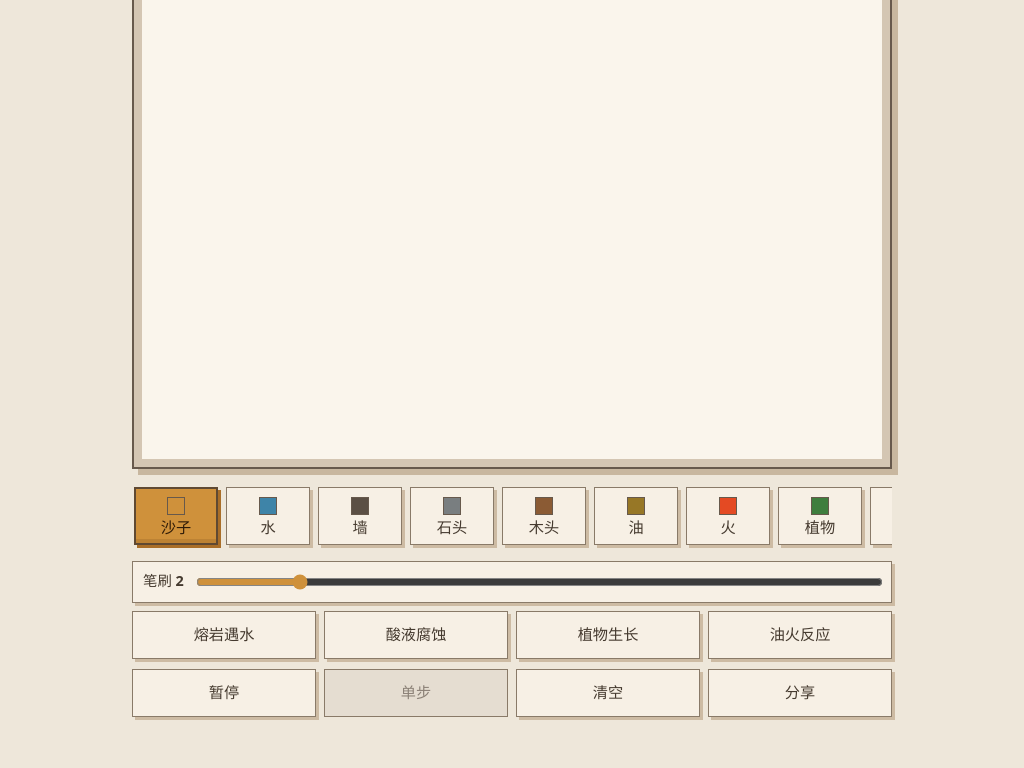
Scenario: App › loads an example scene paused
(page scrolled)
Click the button "熔岩遇水" at (224, 635), box [132,611,316,659]
(page scrolled)
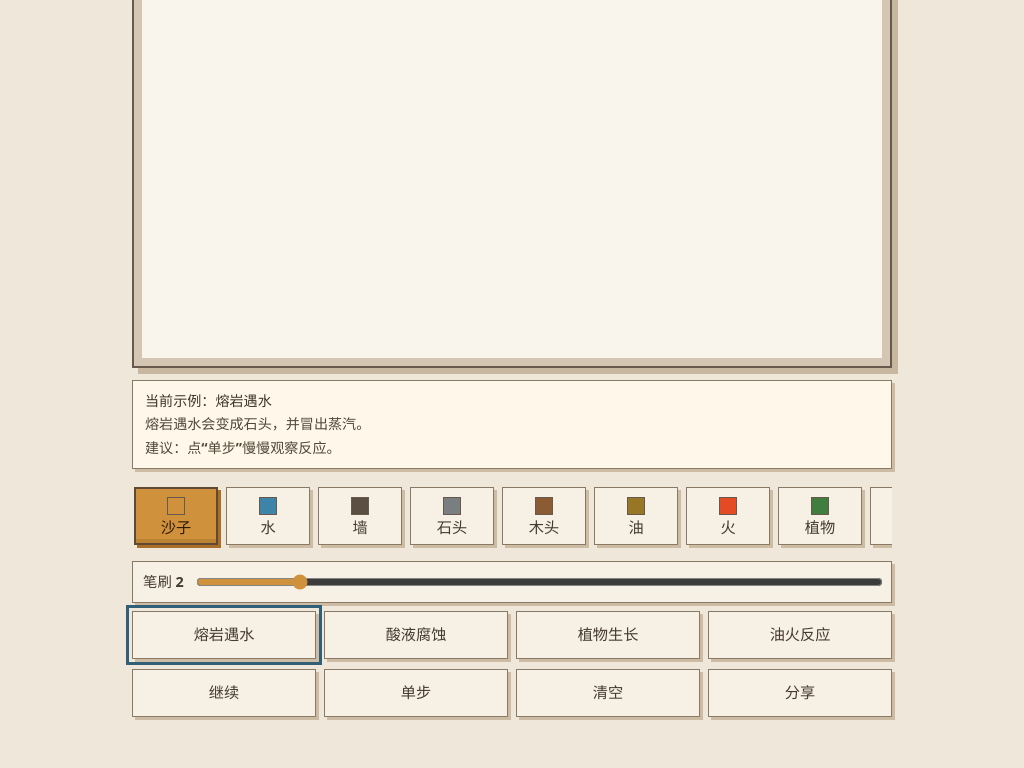
Check: the button "继续" is shown, box [132,669,316,717]
Check: the button "单步" is enabled, box [324,669,508,717]
